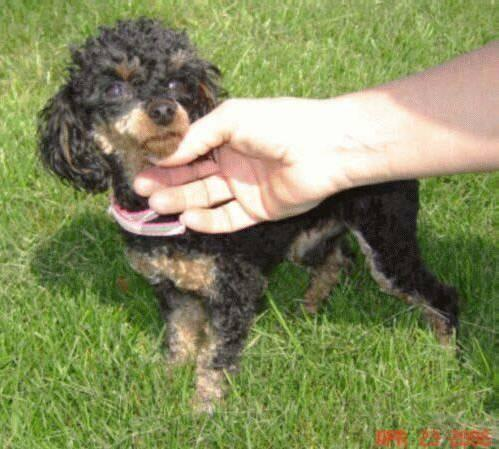dog: (121, 182, 457, 403), (38, 17, 228, 211)
